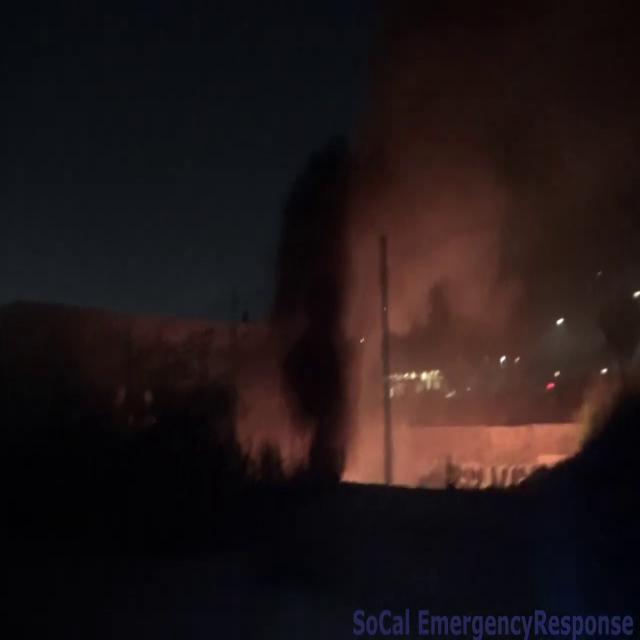Smoke: (335, 96, 533, 484)
